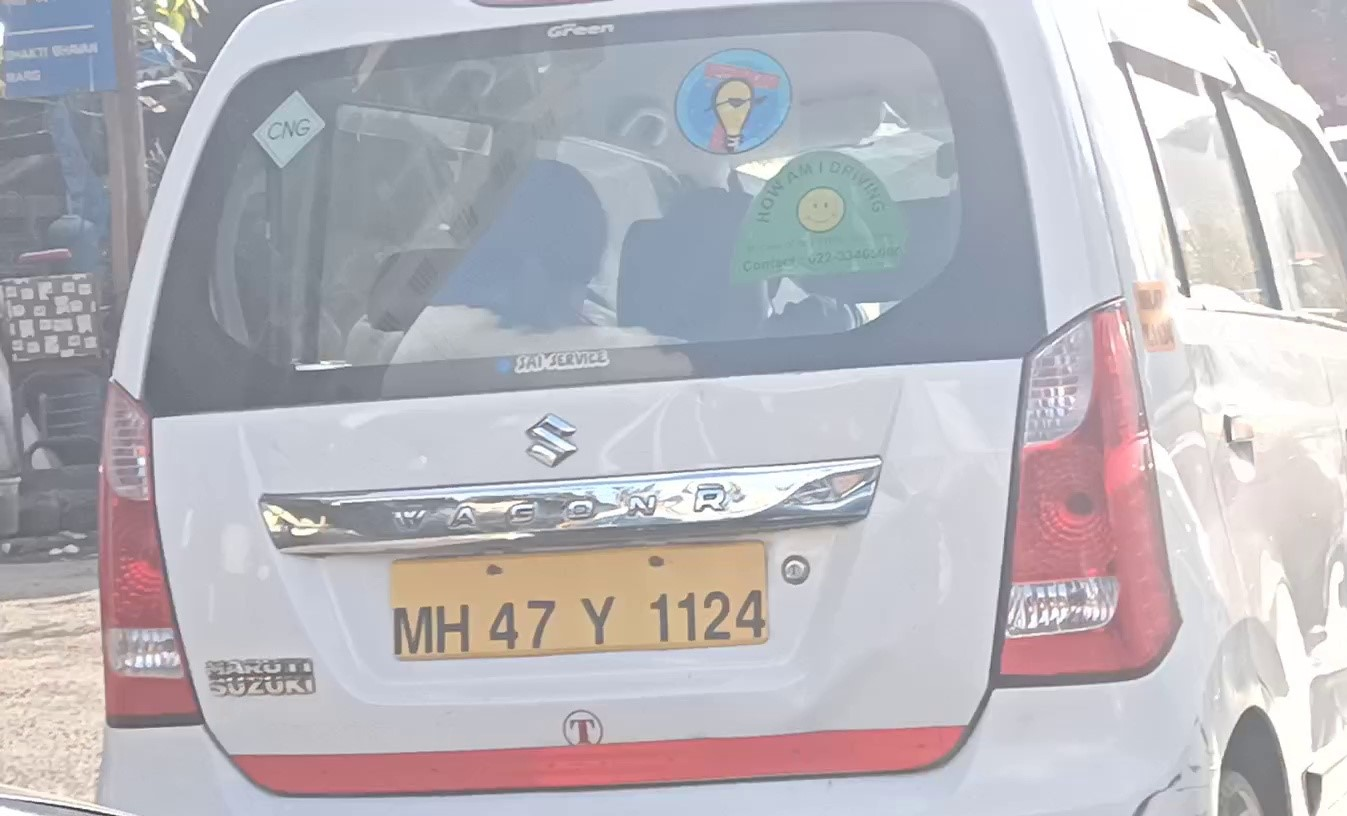MH47Y1124: (392, 540, 768, 662)
